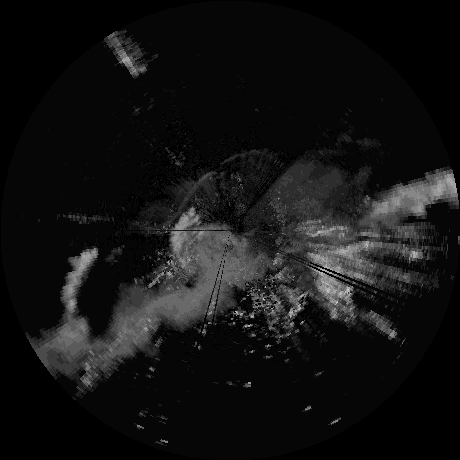frontgust: (162, 172, 216, 226), (218, 148, 281, 161)
